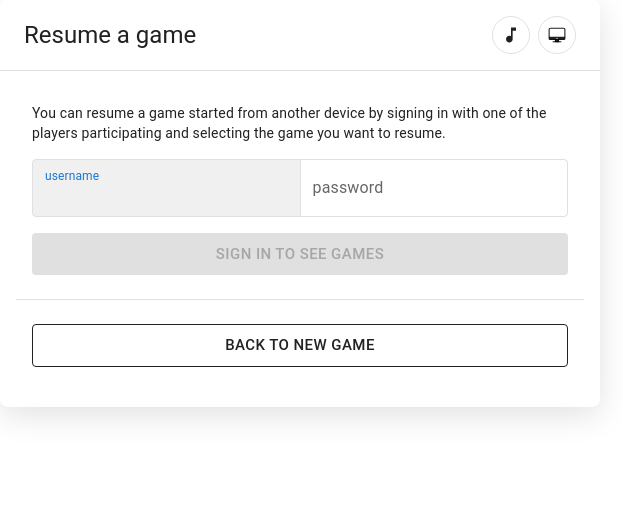
ResumeGameView › allows signing out / changing player
The image size is (623, 512).
Step 1. Type "alice" into the field labelled "username" → (166, 188), box [33, 160, 300, 216]
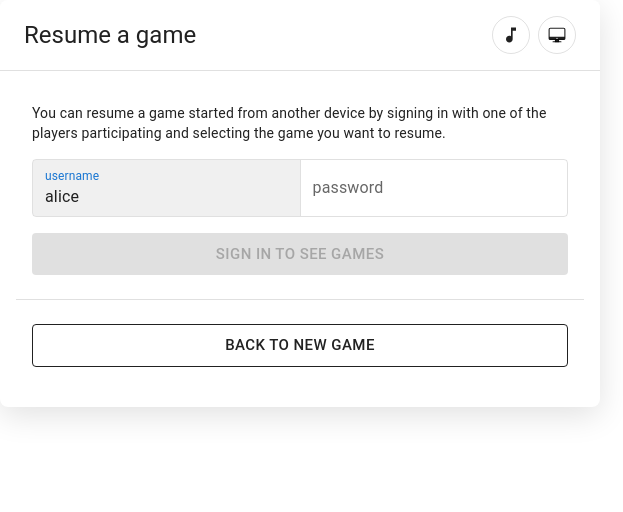
Step 2. Type "secret" into the password field labelled "password" → (434, 188), box [300, 160, 567, 216]
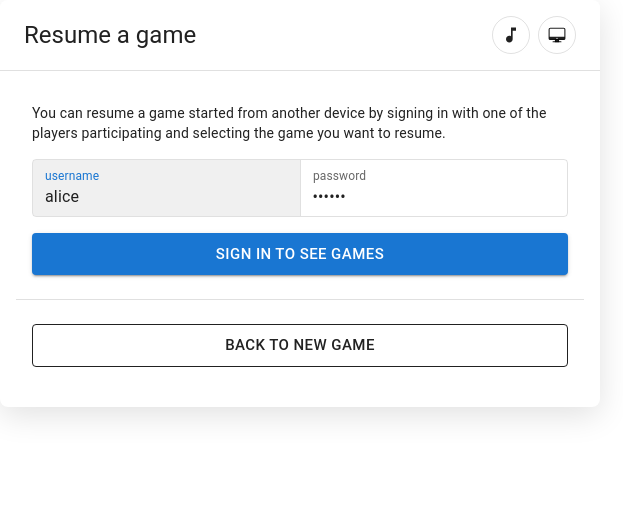
Step 3. Click the button "Sign in to see games" → (300, 254), box [32, 233, 568, 275]
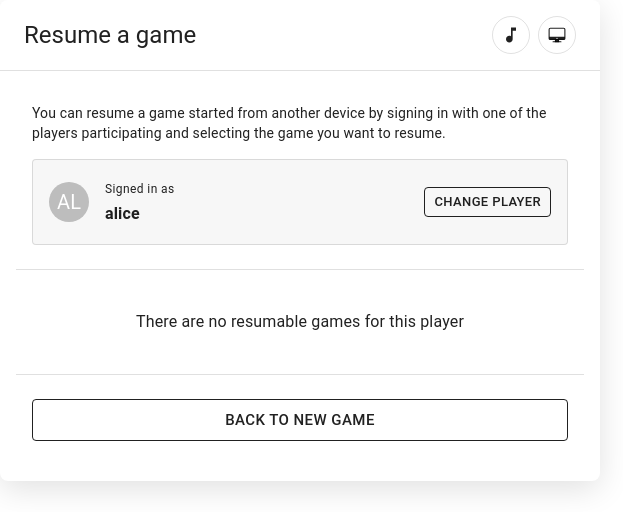
Now the heading "alice" is shown, box [105, 204, 140, 223]
Step 4. Click the button "Change player" → (488, 202), box [424, 187, 551, 218]
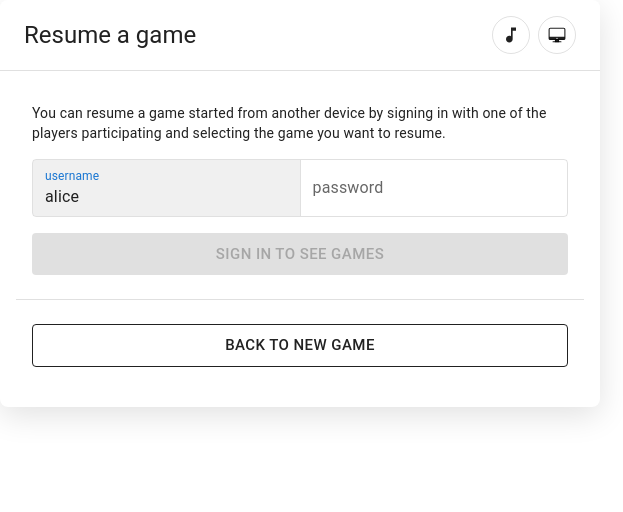
Now the text "Signed in as" is gone
Now the field labelled "username" is shown, box [33, 160, 300, 216]
